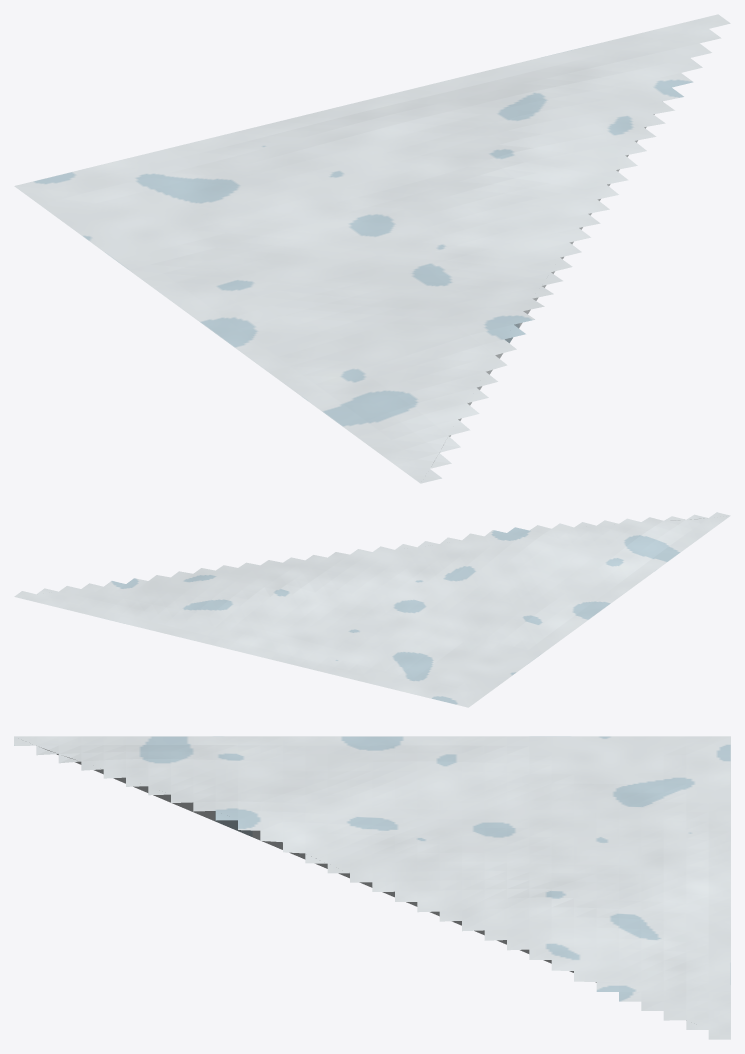
The model's file is Snow_Flat_02_SW.obj.
3 views of the same model, one above another, from view 1: azimuth 30°, elevation 25°; view 2: azimuth 150°, elevation 25°; view 3: azimuth 270°, elevation 25° (orthographic). The views are drawn at different scales.
Bounding box in the file's own units: 10 × 0.1699 × 10.
Materials: 1 (1 with a texture image).
